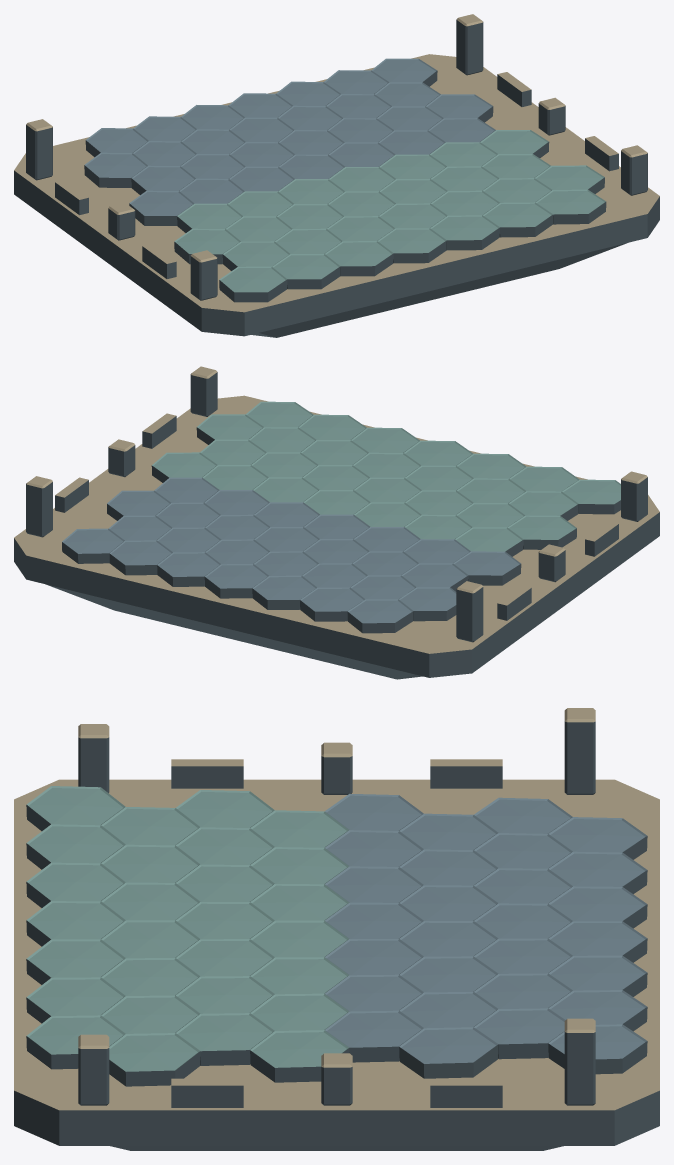
File: floating-ruins-p0.glb
The picture shows the model from 3 angles, top to bottom: view 1: azimuth 30°, elevation 25°; view 2: azimuth 150°, elevation 25°; view 3: azimuth 270°, elevation 25°; orthographic projection. The views are drawn at different scales.
Parts seen in each view (by area): view 1: SM_FloatingFoundation, SM_FloatingUndercroft, SM_Hex_R00_C00, SM_Hex_R00_C04, SM_Hex_R00_C03, SM_Hex_R00_C02, SM_Hex_R00_C05, SM_Hex_R00_C06, SM_Hex_R00_C01, SM_Hex_R06_C00, SM_Hex_R04_C00, SM_RuinPillar_R_02 (+56 smaller); view 2: SM_FloatingFoundation, SM_FloatingUndercroft, SM_Hex_R07_C00, SM_Hex_R02_C00, SM_Hex_R04_C00, SM_Hex_R07_C05, SM_Hex_R07_C01, SM_Hex_R07_C03, SM_Hex_R07_C06, SM_Hex_R07_C04, SM_Hex_R07_C02, SM_Hex_R00_C00 (+56 smaller); view 3: SM_FloatingFoundation, SM_Hex_R05_C06, SM_Hex_R01_C06, SM_Hex_R03_C06, SM_Hex_R02_C06, SM_Hex_R04_C06, SM_Hex_R06_C06, SM_Hex_R00_C03, SM_Hex_R00_C05, SM_Hex_R00_C04, SM_Hex_R00_C02, SM_Hex_R00_C00 (+56 smaller).
Boxes of the visible parts, x1,y1,x2,y2 form: SM_FloatingFoundation: (14, 54, 659, 336); SM_FloatingUndercroft: (251, 243, 626, 337); SM_Hex_R00_C00: (219, 266, 287, 302); SM_Hex_R00_C04: (430, 215, 499, 250); SM_Hex_R00_C03: (377, 228, 446, 263); SM_Hex_R00_C02: (325, 241, 393, 276); SM_Hex_R00_C05: (483, 202, 553, 237); SM_Hex_R00_C06: (535, 189, 606, 224); SM_Hex_R00_C01: (272, 254, 340, 289); SM_Hex_R06_C00: (84, 152, 147, 187); SM_Hex_R04_C00: (129, 190, 194, 225); SM_RuinPillar_R_02: (456, 14, 483, 75); SM_FloatingFoundation: (14, 395, 659, 677); SM_FloatingUndercroft: (46, 584, 422, 679); SM_Hex_R07_C00: (347, 599, 413, 633); SM_Hex_R02_C00: (507, 515, 576, 549); SM_Hex_R04_C00: (453, 551, 521, 585); SM_Hex_R07_C05: (109, 540, 172, 575); SM_Hex_R07_C01: (300, 587, 364, 621); SM_Hex_R07_C03: (204, 564, 268, 598); SM_Hex_R07_C06: (62, 528, 124, 563); SM_Hex_R07_C04: (157, 552, 220, 586); SM_Hex_R07_C02: (252, 575, 316, 609); SM_Hex_R00_C00: (562, 479, 620, 514); SM_FloatingFoundation: (14, 779, 659, 1145); SM_Hex_R05_C06: (399, 1027, 498, 1078); SM_Hex_R01_C06: (109, 1033, 200, 1086); SM_Hex_R03_C06: (250, 1030, 349, 1082); SM_Hex_R02_C06: (176, 1013, 274, 1065); SM_Hex_R04_C06: (325, 1010, 423, 1062); SM_Hex_R06_C06: (474, 1008, 565, 1059); SM_Hex_R00_C03: (26, 901, 125, 946); SM_Hex_R00_C05: (26, 977, 125, 1023); SM_Hex_R00_C04: (26, 939, 125, 984); SM_Hex_R00_C02: (26, 862, 125, 907); SM_Hex_R00_C00: (26, 786, 125, 831).
Bounding box in the file's own units: 7.56 × 1.77 × 6.24.
